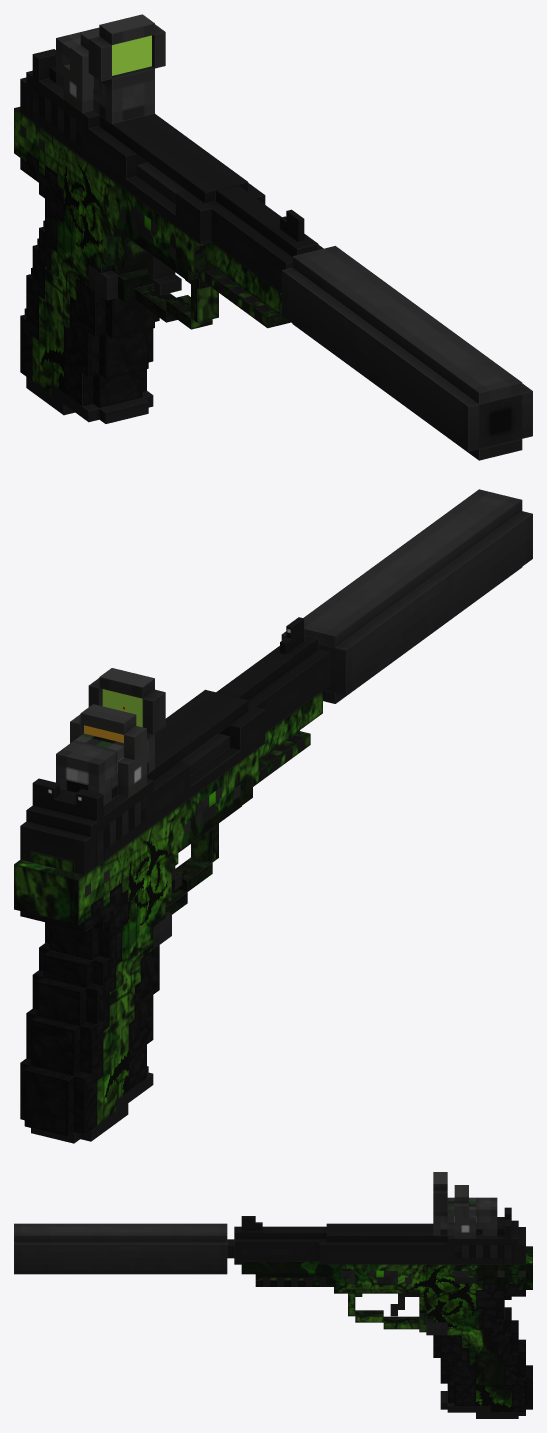
File: RD_ZFN57.glb
3 views of the same model, one above another, from view 1: azimuth 30°, elevation 25°; view 2: azimuth 150°, elevation 25°; view 3: azimuth 270°, elevation 25° (orthographic). The views are drawn at different scales.
Parts seen in each view (by area): view 1: FN57, SILENCER_6X6, FN57_FRAME, SCOPE_AIMPOINT, FN57_CLIP, SCOPE_TRIJICON; view 2: FN57, FN57_FRAME, SILENCER_6X6, SCOPE_AIMPOINT, SCOPE_TRIJICON, FN57_CLIP; view 3: FN57, FN57_FRAME, SILENCER_6X6, SCOPE_AIMPOINT, SCOPE_TRIJICON, FN57_CLIP.
Boxes of the visible parts, x1,y1,x2,y2 form: FN57: (14,107,290,408); SILENCER_6X6: (281,246,532,460); FN57_FRAME: (20,49,323,293); SCOPE_AIMPOINT: (56,14,165,123); FN57_CLIP: (26,377,153,423); SCOPE_TRIJICON: (56,29,99,112); FN57: (14,691,322,1136); FN57_FRAME: (20,617,329,875); SILENCER_6X6: (281,489,532,703); SCOPE_AIMPOINT: (56,668,165,800); SCOPE_TRIJICON: (56,704,146,805); FN57_CLIP: (31,1066,153,1143); FN57: (227,1239,532,1412); FN57_FRAME: (234,1207,525,1264); SILENCER_6X6: (14,1223,227,1274); SCOPE_AIMPOINT: (433,1172,497,1235); SCOPE_TRIJICON: (454,1185,497,1238); FN57_CLIP: (440,1391,525,1418).
Size of the model in its own units: 0.0591 by 0.3543 by 0.7185.
Materials: 6 (6 with a texture image).
